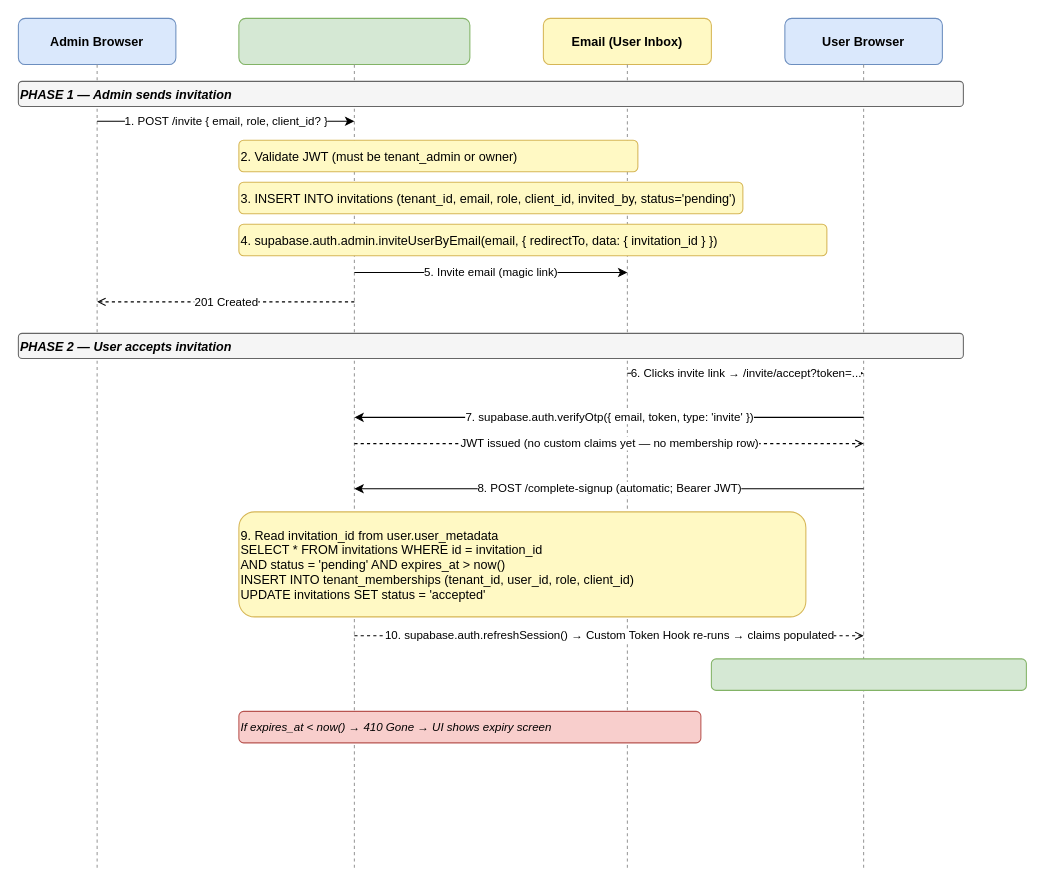
Some shapes in this 1045 by 888 pixel diagram are drawn without their labels. Here are the shapes that lost their labels. From the top down, the centre of each, then its label:
the point at 354,41: Edge Functions + Supabase
the point at 868,674: 11. Redirect to /[tenantSlug]/dashboard
